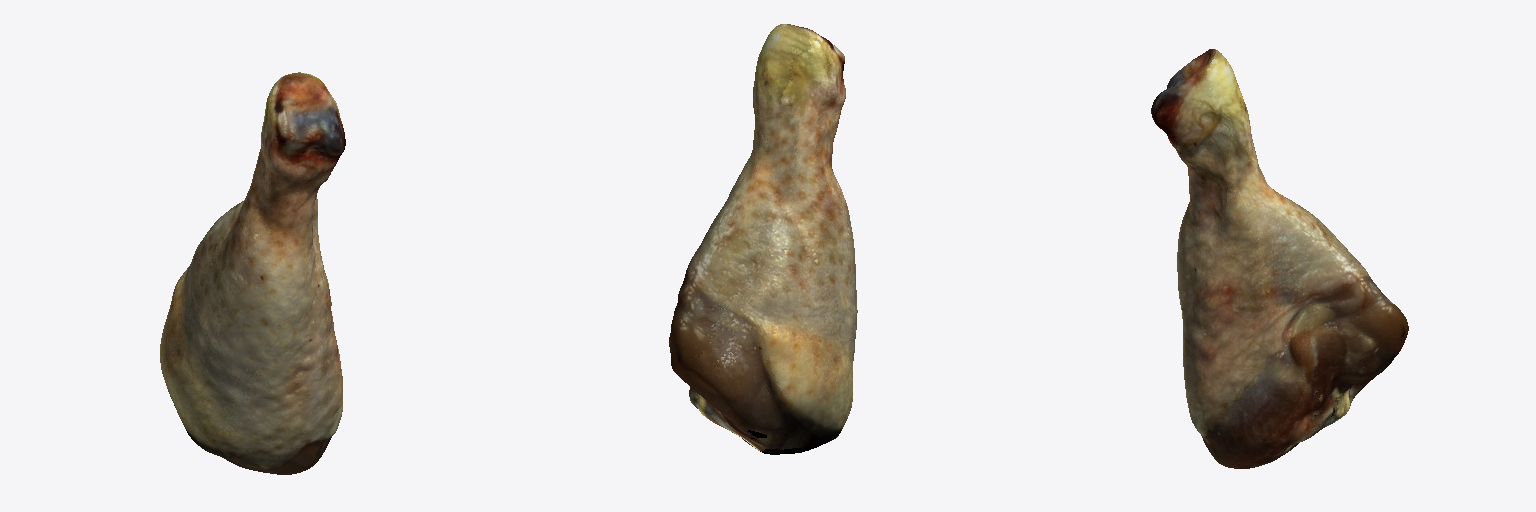
The picture shows the model from 3 angles: view 1: azimuth 30°, elevation 25°; view 2: azimuth 150°, elevation 25°; view 3: azimuth 270°, elevation 25°; orthographic projection.
Bounding box in the file's own units: 52.79 × 133 × 75.91.
2 materials, 1 textured.